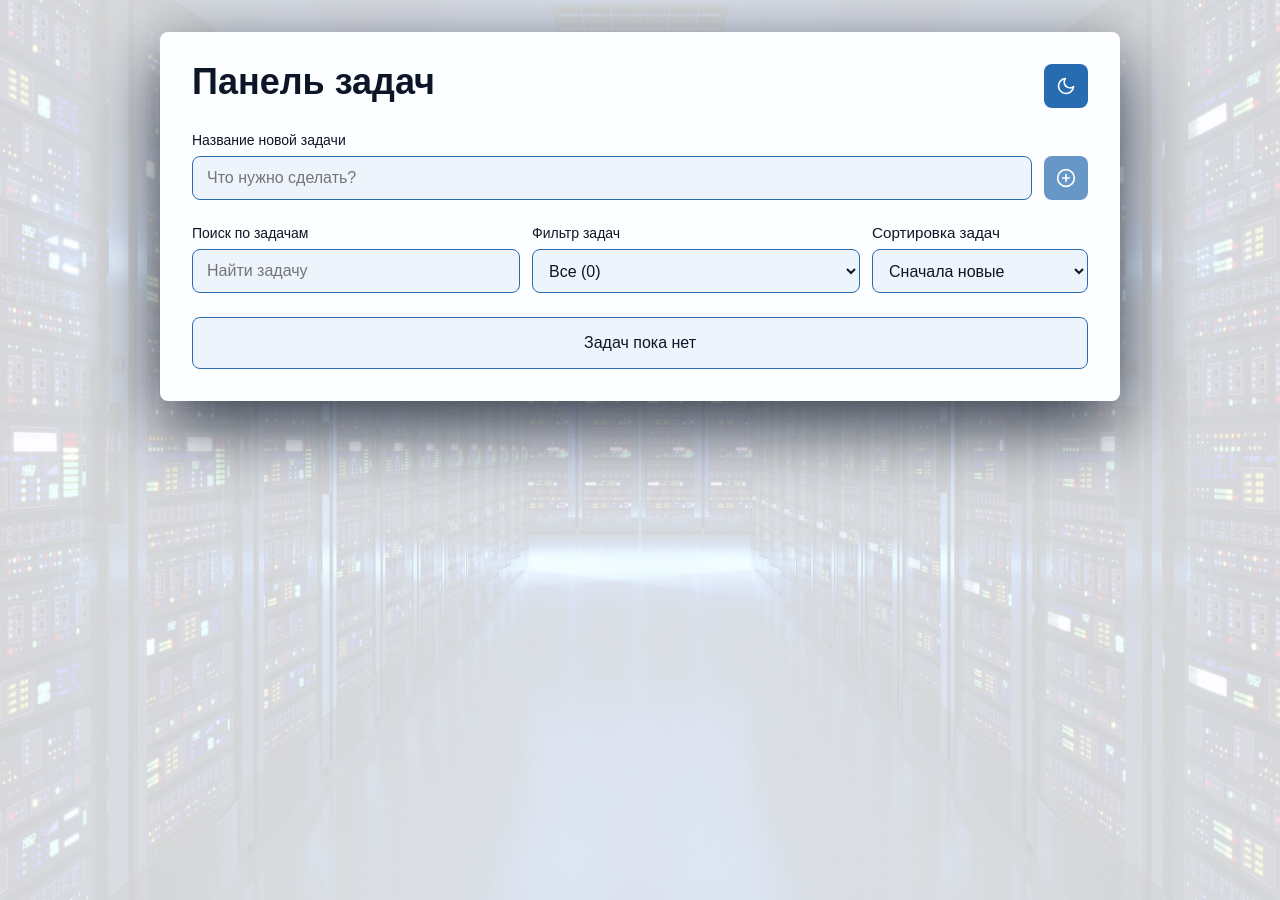
App › создает задачу и обновляет список
Check: the text "Задач пока нет" is shown, box [192, 317, 1088, 369]
Step 1. Type "  Новая задача  " into the field labelled "Название новой задачи" → [612, 178], box [192, 156, 1032, 200]
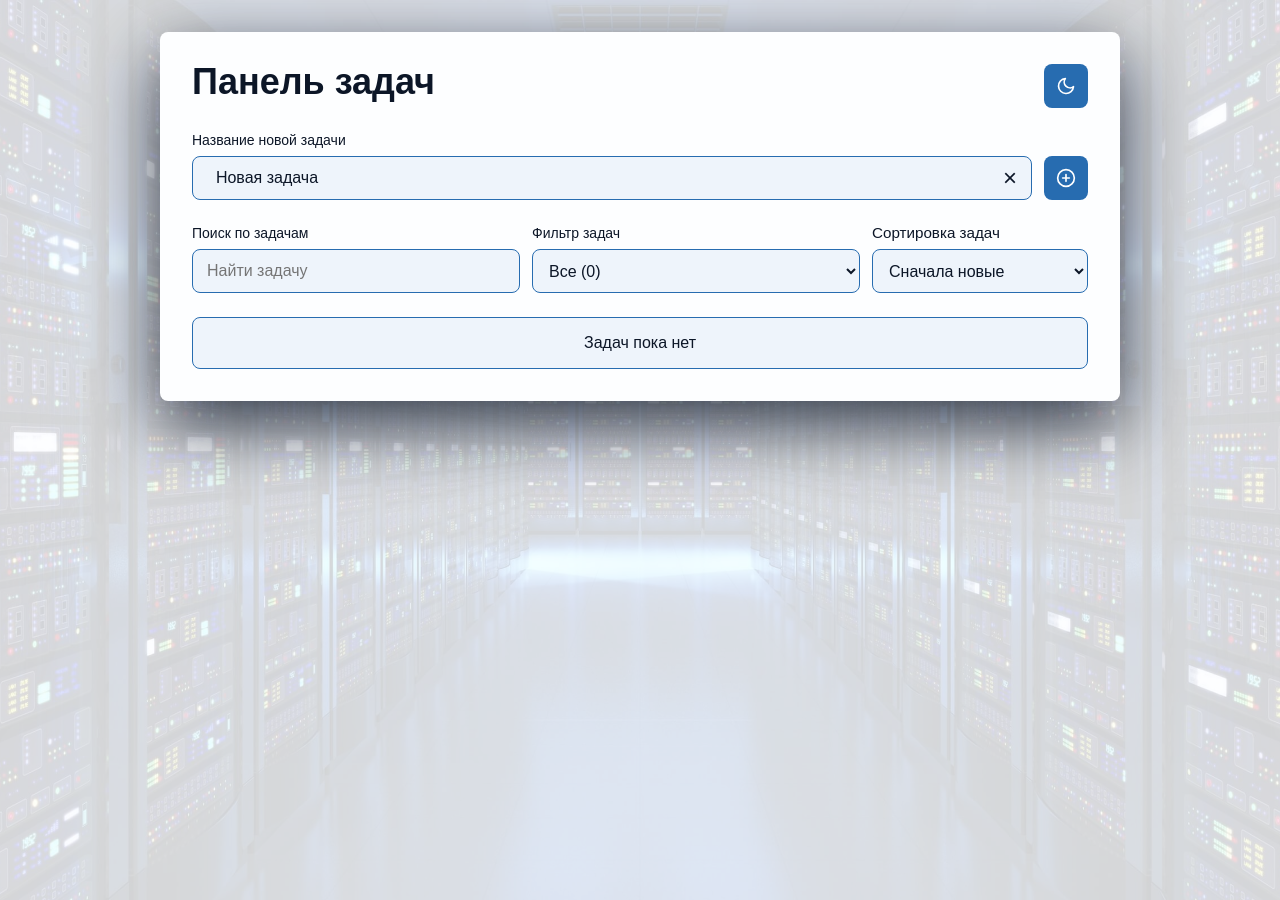
Step 2. Click the button named "Добавить" → [1066, 178], box [1044, 156, 1088, 200]
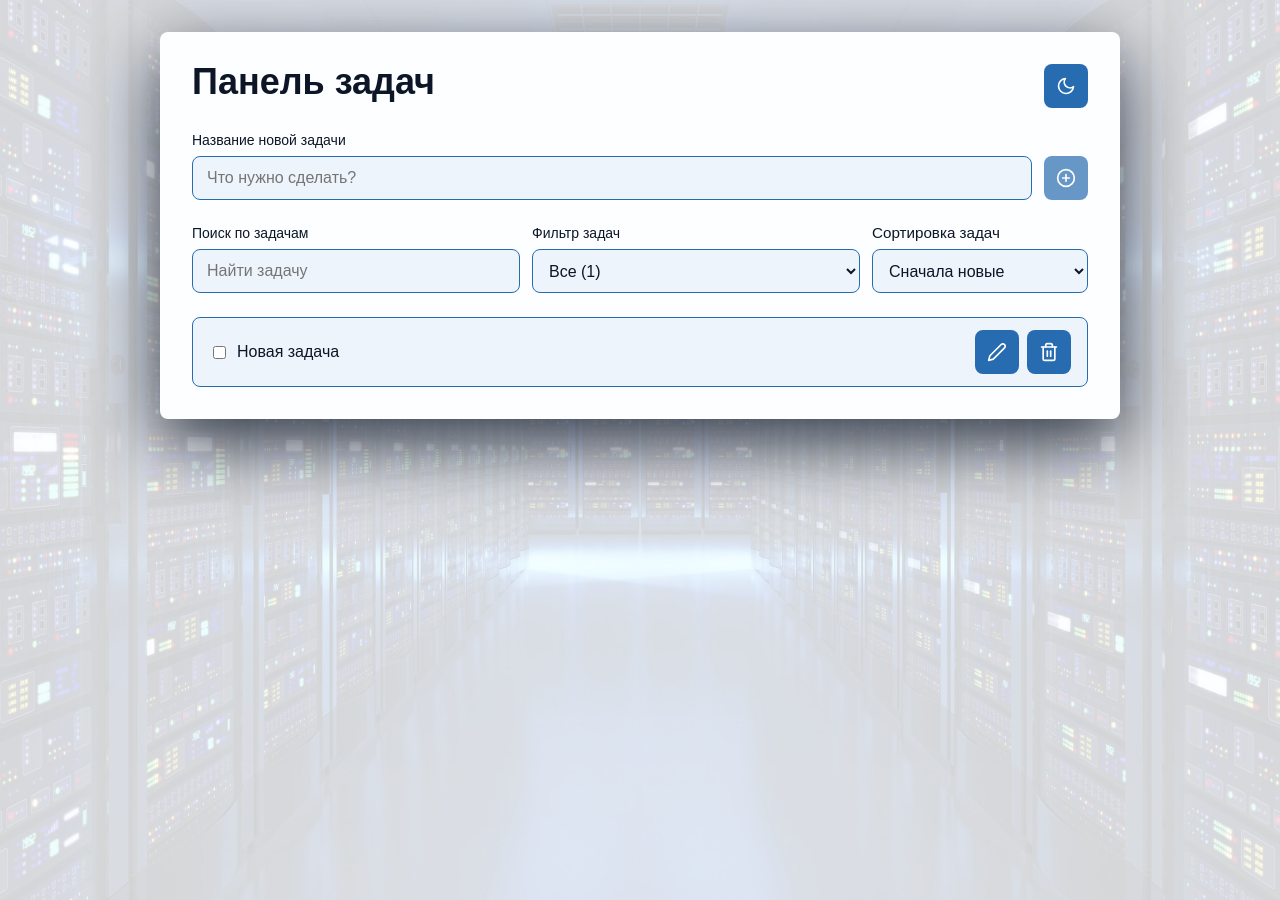
Check: the text "Новая задача" is shown, box [237, 343, 339, 361]
